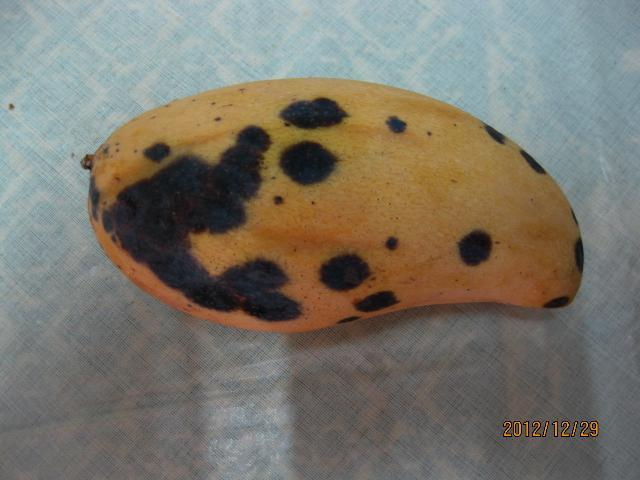Mango Overripe: (25, 74, 618, 346)
